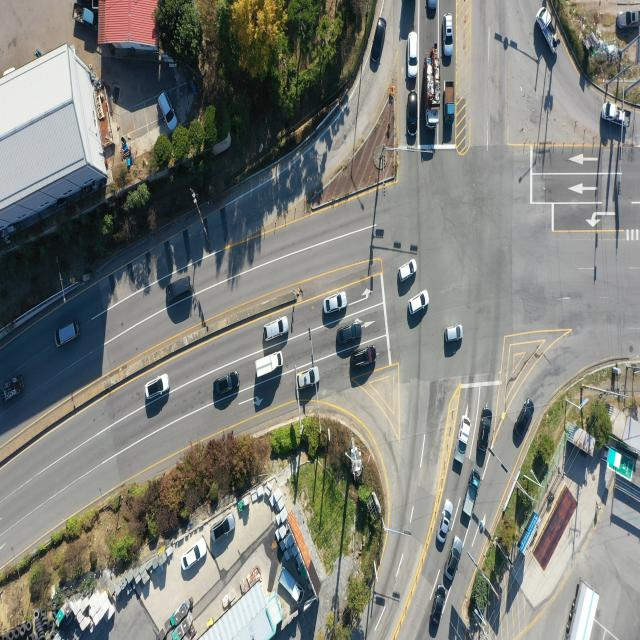car: (511, 400, 534, 446), (370, 15, 389, 66), (182, 540, 208, 574), (444, 538, 462, 582), (166, 276, 193, 303), (160, 91, 178, 131), (146, 375, 172, 402), (264, 318, 290, 345), (439, 501, 455, 543), (213, 372, 240, 396), (350, 346, 377, 370), (1, 374, 24, 402), (212, 513, 234, 542), (339, 324, 364, 348), (296, 366, 321, 390), (431, 586, 445, 626), (57, 325, 79, 350), (408, 289, 429, 315), (480, 412, 494, 451), (409, 33, 420, 80), (326, 292, 349, 314), (408, 91, 419, 137), (398, 259, 417, 283), (617, 9, 640, 28), (445, 16, 454, 56), (445, 324, 464, 342), (425, 0, 439, 17)
medium_truck: (563, 583, 599, 640), (424, 46, 442, 127)
small_truck: (539, 2, 560, 52), (276, 567, 302, 602), (255, 350, 284, 381), (462, 470, 480, 519), (453, 417, 470, 467), (601, 102, 630, 128), (72, 3, 96, 29), (446, 82, 456, 123)
